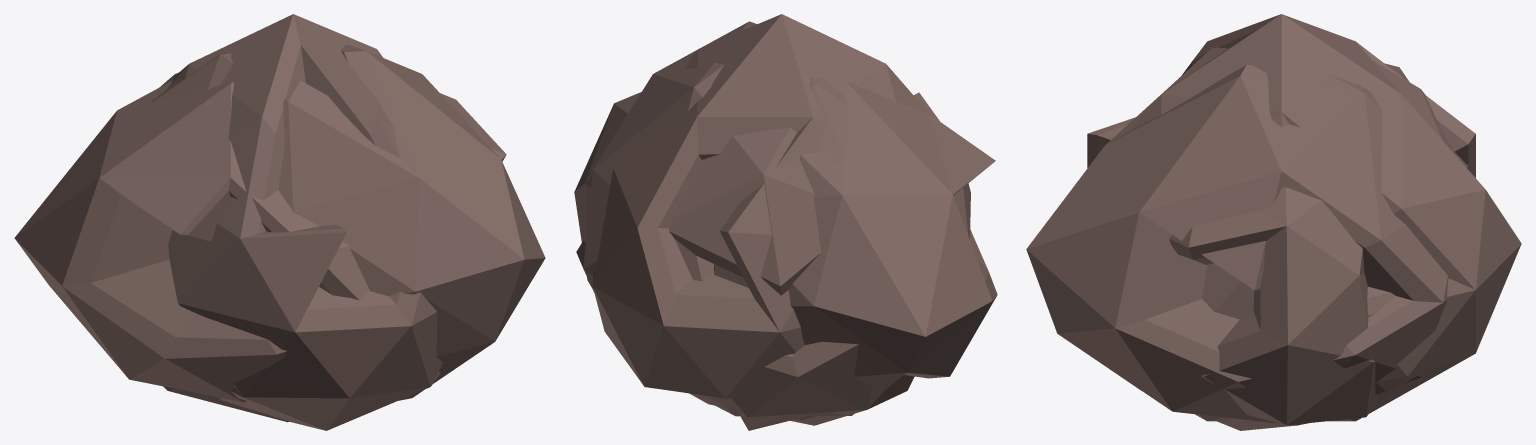
Rendered from asteroid.fbx.
3 views of the same model, side by side, from view 1: azimuth 30°, elevation 25°; view 2: azimuth 150°, elevation 25°; view 3: azimuth 270°, elevation 25° (orthographic).
Visible parts, largest first — view 1: Asteroid1, Asteroid3, Asteroid2; view 2: Asteroid1, Asteroid3, Asteroid2; view 3: Asteroid2, Asteroid1, Asteroid3.
Boxes of the visible parts, box(x1,y1,x2,y2) form: Asteroid1: box(168, 14, 443, 430); Asteroid3: box(14, 80, 506, 402); Asteroid2: box(149, 44, 545, 422); Asteroid1: box(592, 14, 970, 430); Asteroid3: box(574, 81, 997, 416); Asteroid2: box(576, 21, 914, 425); Asteroid2: box(1026, 47, 1467, 430); Asteroid1: box(1087, 14, 1521, 421); Asteroid3: box(1169, 63, 1409, 425).
Bounding box in the file's own units: 3.66 × 3.23 × 3.63.
